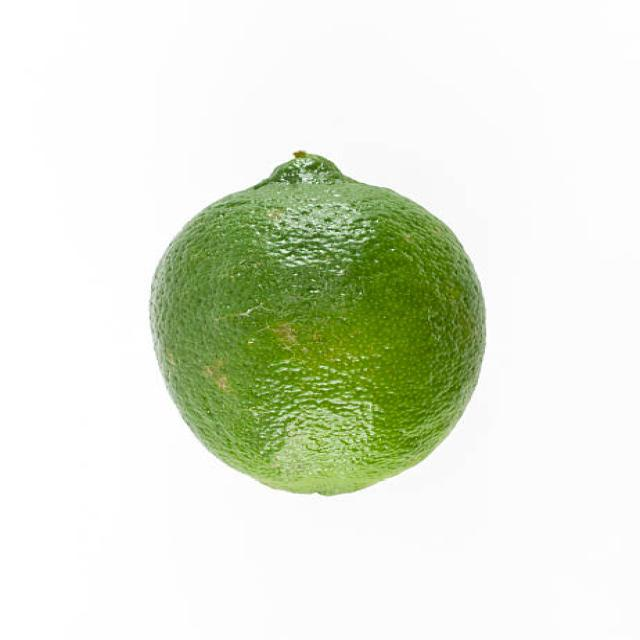Unripe: (146, 149, 487, 495)
